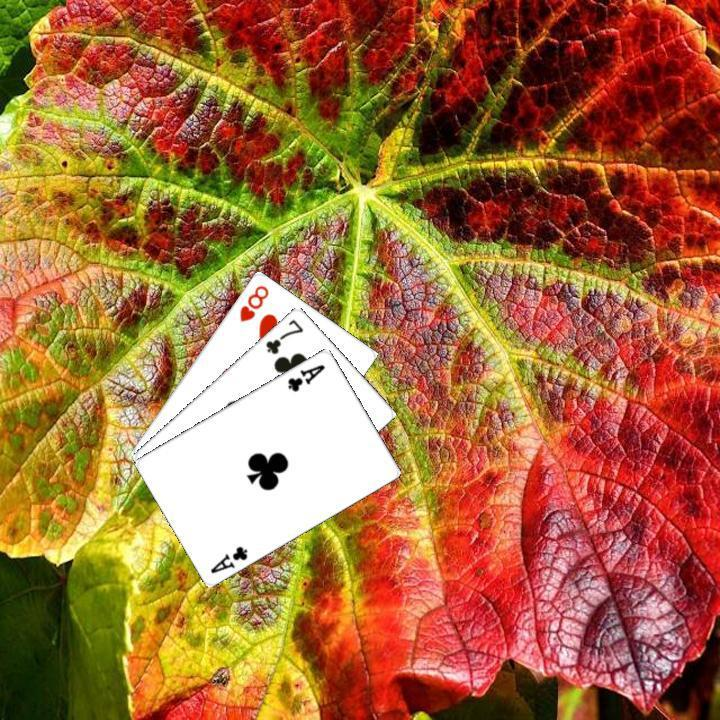7: (261, 314, 305, 356)
8: (235, 280, 271, 323)
A: (283, 360, 327, 394), (206, 541, 250, 575)
